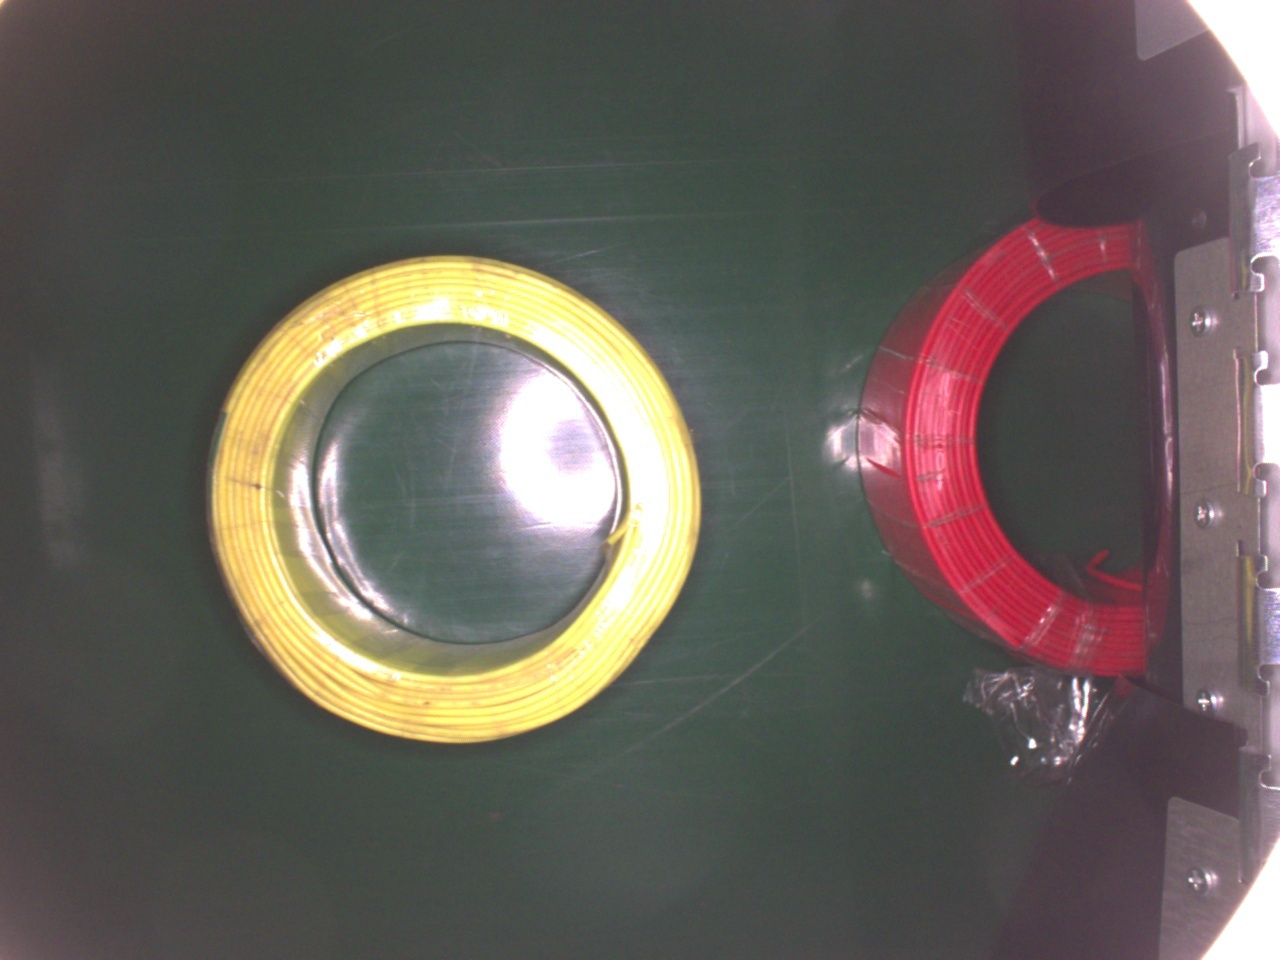red: (857, 210, 1164, 680)
yellow: (205, 253, 703, 746)
